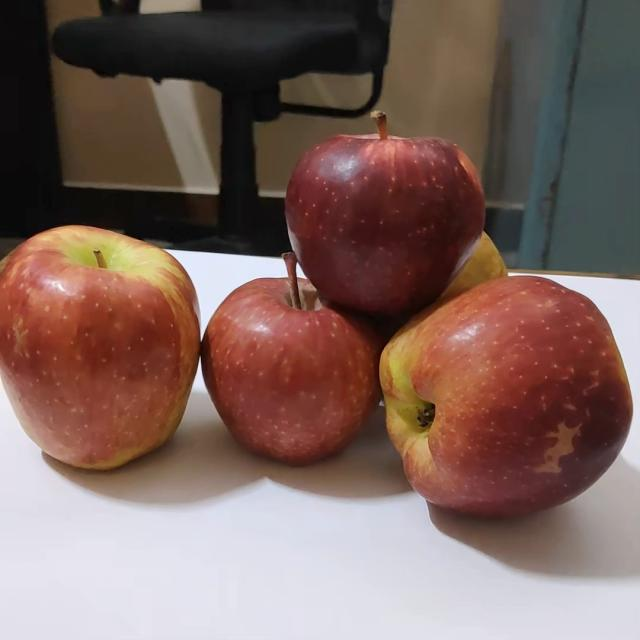apple: (382, 272, 633, 527), (0, 220, 207, 466), (284, 104, 494, 319), (202, 251, 390, 469), (419, 223, 519, 309)
